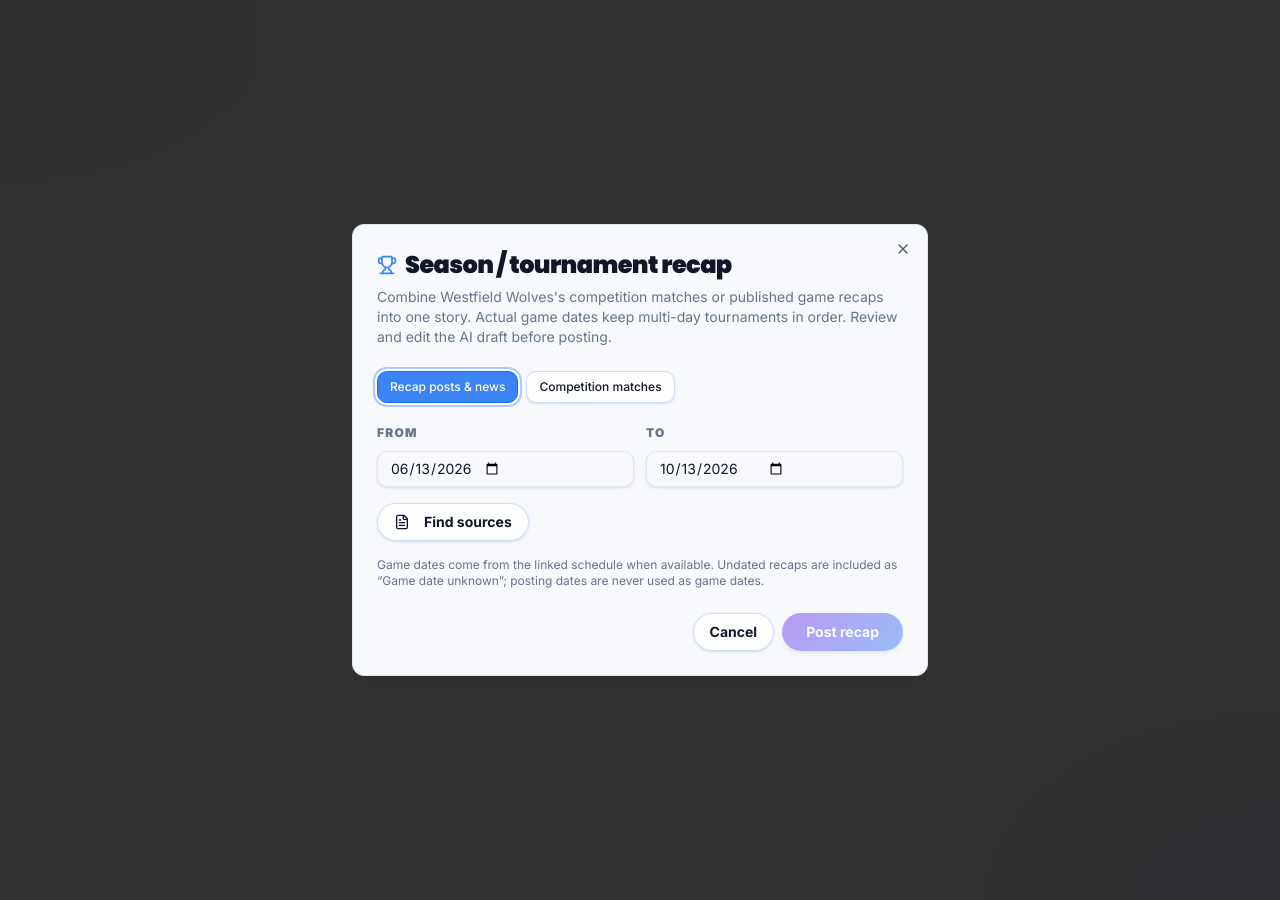
Test: SeasonRecapDialog news coverage › explains when team news needs a saved game date
What coordinates should you click on to do the following:
click the button with test id "button-season-recap-find-recaps"
I would click on:
 (453, 522)
Its box is top-left (377, 503), bottom-right (529, 541).
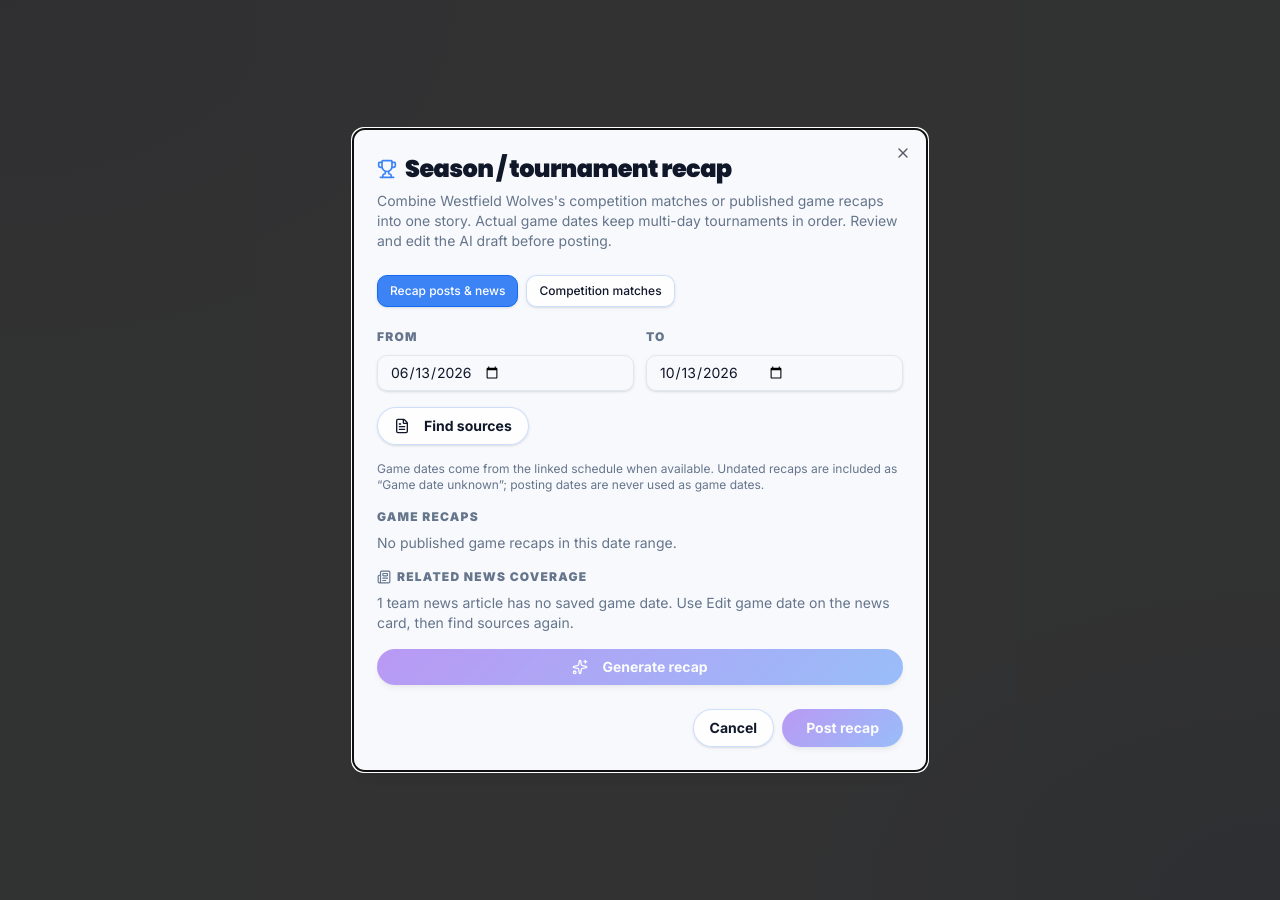
expect the text with test id "text-season-news-empty-state" shows "1 team news article has no saved game date. Use Edit game date on the news card": met, box top-left (377, 594), bottom-right (890, 631)
